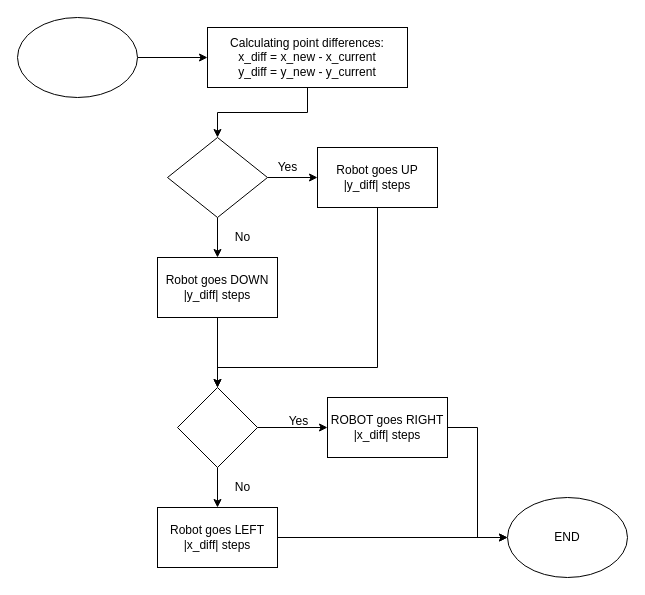
This 645x595 diagram has some shape labels left out. Here are the shapes that lost their labels. From the top down, the centre of each, then its label:
At (x=77, y=57): "START".
At (x=217, y=177): "y_diff > 0".
At (x=217, y=427): "x_diff > 0".
